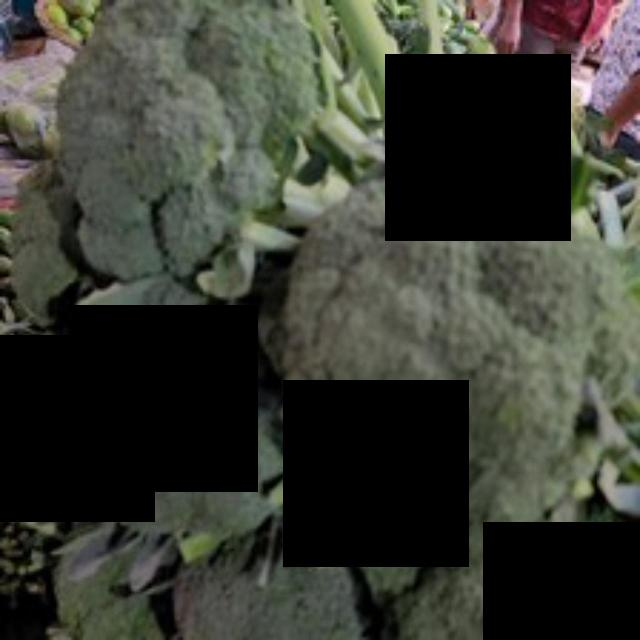broccoli: (272, 142, 604, 540)
